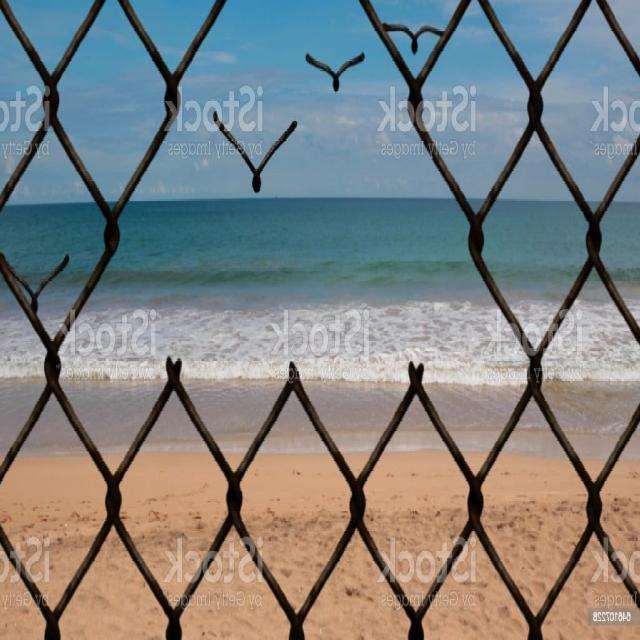fence line: (93, 50, 522, 493)
